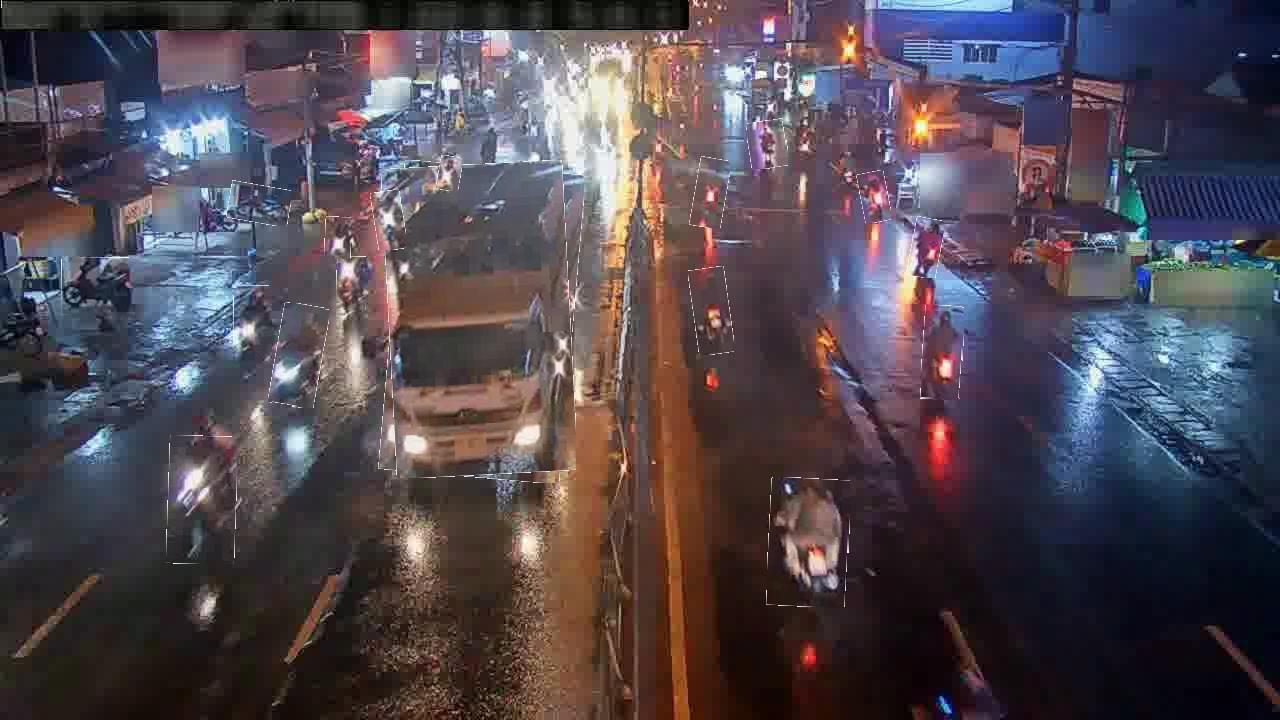14: (385, 164, 579, 481)
8: (385, 163, 574, 477)
motorbike: (768, 478, 850, 608), (167, 436, 237, 565), (272, 304, 326, 408), (62, 258, 140, 316), (922, 306, 964, 400), (691, 267, 733, 355), (234, 285, 270, 364), (228, 183, 291, 225), (692, 157, 729, 228), (909, 217, 943, 278), (372, 190, 405, 251), (748, 120, 788, 169), (337, 257, 367, 311), (859, 171, 890, 223), (324, 217, 352, 260), (438, 156, 462, 192)
